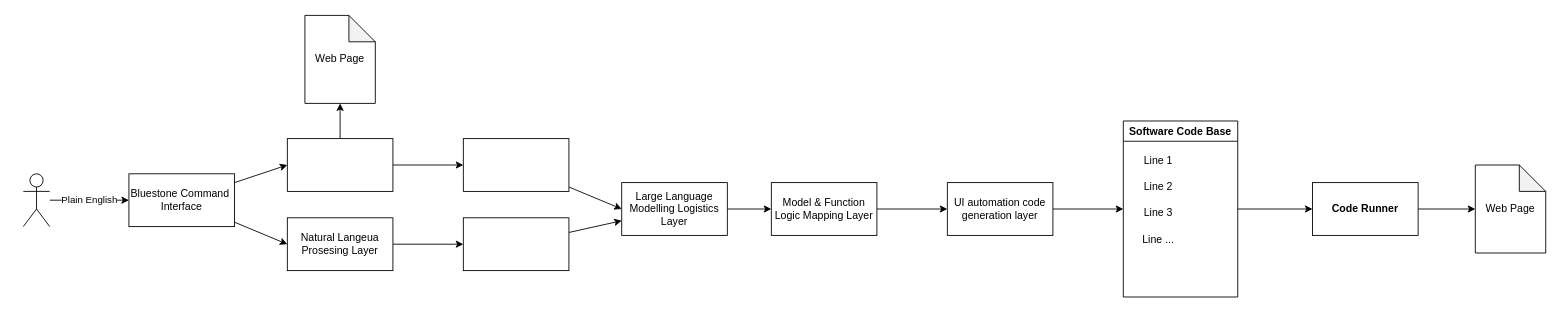
The diagram is 1561 pixels wide and 312 high, and some of its shapes have lost their labels. The box of each missing label's shape, as (x1, y1, x2, y2) in pixels:
Language Encoding Layer: (462, 217, 569, 271)
Software Engineer in Test: (22, 173, 50, 227)
Web Page Capture Layer: (286, 138, 393, 191)
Web Page Encoding Layer: (462, 138, 569, 191)
